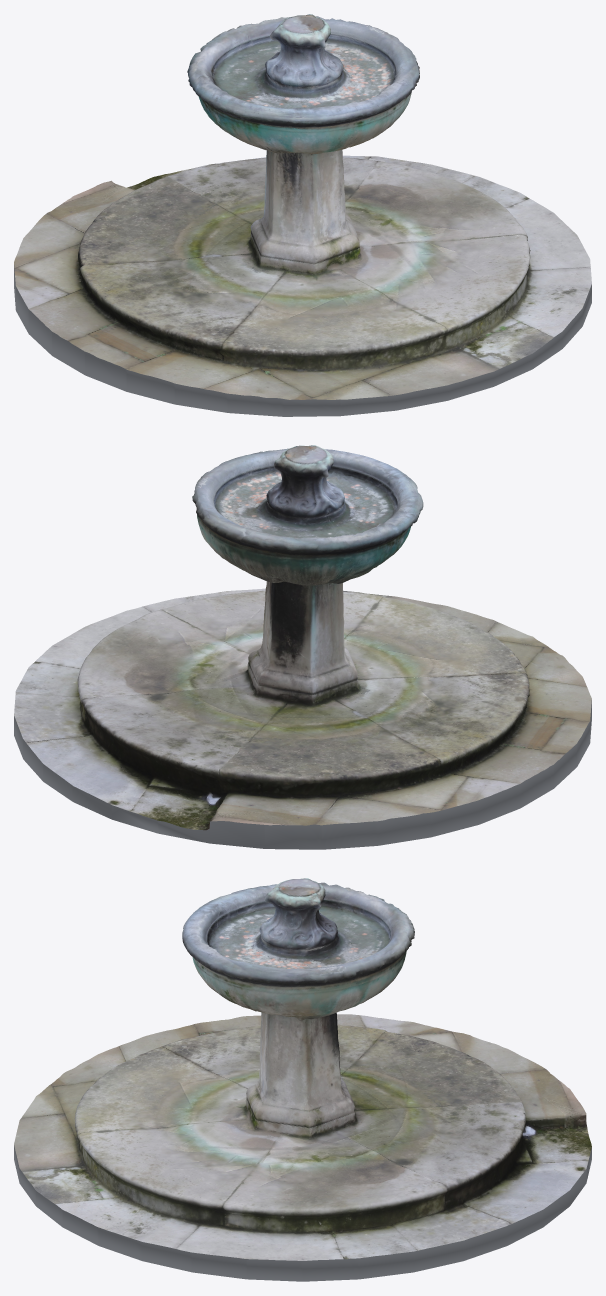
Rendered from fountain.glb.
The picture shows the model from 3 angles, top to bottom: view 1: azimuth 30°, elevation 25°; view 2: azimuth 150°, elevation 25°; view 3: azimuth 270°, elevation 25°; orthographic projection.
Parts seen in each view (by area): view 1: Object_3, Object_2; view 2: Object_3, Object_2; view 3: Object_3, Object_2.
Part boxes in pixels (x1=…): Object_3: x1=14, y1=14, x2=591, y2=399; Object_2: x1=14, y1=265, x2=591, y2=416; Object_3: x1=14, y1=445, x2=591, y2=830; Object_2: x1=14, y1=700, x2=591, y2=849; Object_3: x1=14, y1=878, x2=591, y2=1260; Object_2: x1=14, y1=1145, x2=591, y2=1281.
Bounding box in the file's own units: 9.53 × 4.98 × 9.53.
2 materials, 2 textured.
